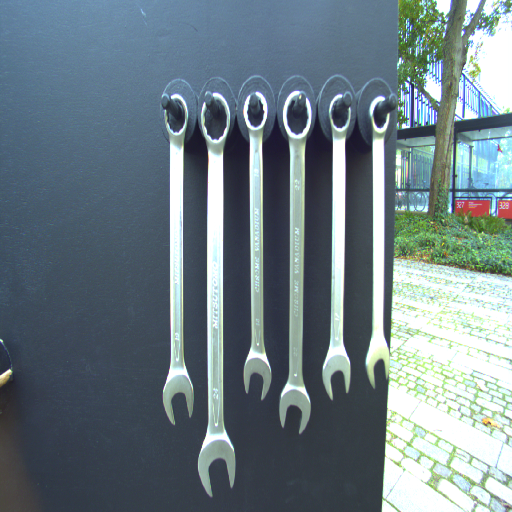bottom: (196, 428, 238, 501), (161, 366, 197, 426), (278, 381, 311, 439), (319, 346, 351, 401), (240, 349, 273, 402), (364, 335, 392, 388)
top: (200, 91, 233, 152), (280, 90, 314, 143), (160, 89, 191, 140), (241, 91, 271, 135), (327, 90, 354, 136), (365, 94, 392, 136)
